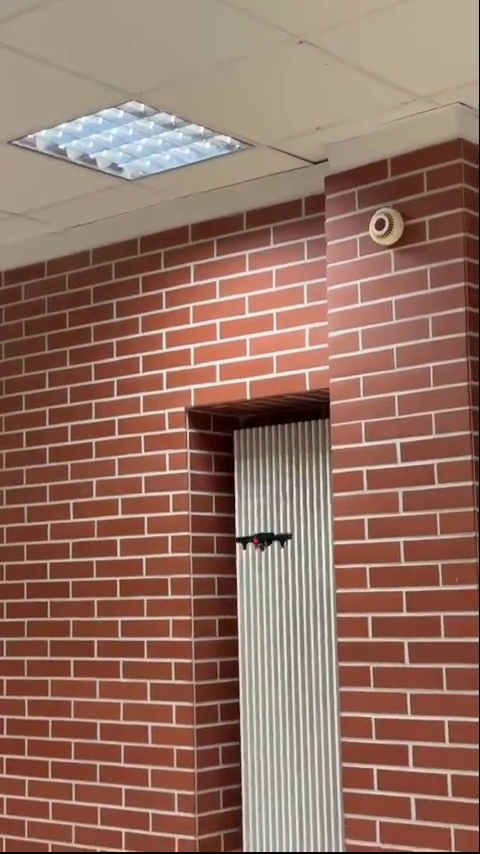drone: (230, 532, 297, 560)
